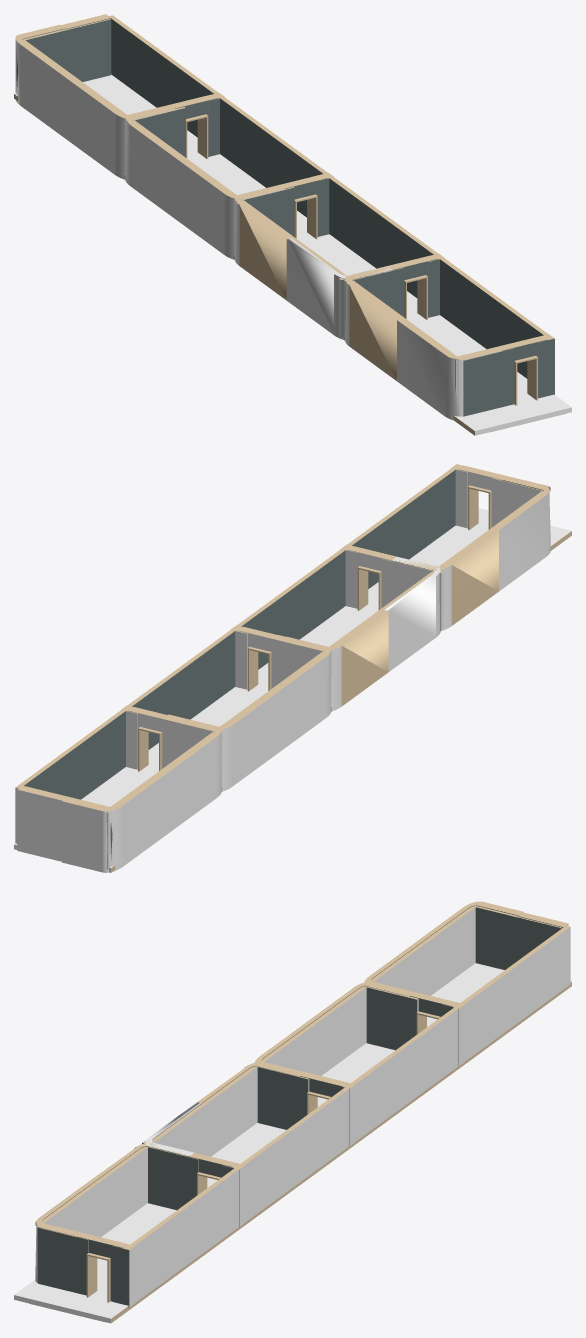
Rendered from Stage.gltf.
3 views of the same model, one above another, from view 1: azimuth 30°, elevation 25°; view 2: azimuth 150°, elevation 25°; view 3: azimuth 330°, elevation 25° (orthographic).
Parts seen in each view (by area): view 1: Stage, COL1, COL2, COL8, COL4, COL3, COL7, COL5, COL6, COL9, COL11, COL10 (+1 smaller); view 2: Stage, COL1, COL2, COL3, COL4, COL5, COL11, COL10, COL9, COL12; view 3: COL1, COL3, COL2, Stage, COL8, COL4, COL7, COL6, COL5, COL9.
Boxes of the visible parts, x1,y1,x2,y2 form: Stage: (15, 14, 565, 432); COL1: (109, 15, 550, 378); COL2: (14, 74, 571, 435); COL8: (15, 19, 110, 92); COL4: (463, 348, 514, 416); COL3: (17, 39, 456, 393); COL7: (134, 107, 185, 157); COL5: (353, 267, 404, 317); COL6: (244, 187, 294, 236); COL9: (538, 334, 554, 398); COL11: (317, 173, 333, 236); COL10: (428, 254, 444, 317); Stage: (17, 465, 550, 872); COL1: (15, 466, 457, 843); COL2: (14, 508, 571, 872); COL3: (110, 490, 543, 859); COL4: (491, 478, 542, 527); COL5: (381, 558, 431, 607); COL11: (230, 625, 247, 689); COL10: (341, 544, 357, 608); COL9: (451, 464, 467, 528); COL12: (121, 705, 137, 769); COL1: (128, 925, 570, 1302); COL3: (36, 906, 476, 1258); COL2: (14, 963, 571, 1323); Stage: (31, 901, 568, 1322); COL8: (473, 906, 561, 969); COL4: (38, 1227, 88, 1295); COL7: (366, 987, 418, 1050); COL6: (257, 1067, 309, 1129); COL5: (148, 1147, 198, 1210); COL9: (112, 1244, 135, 1307).
Bounding box in the file's own units: 2.76 × 1.62 × 22.04.
